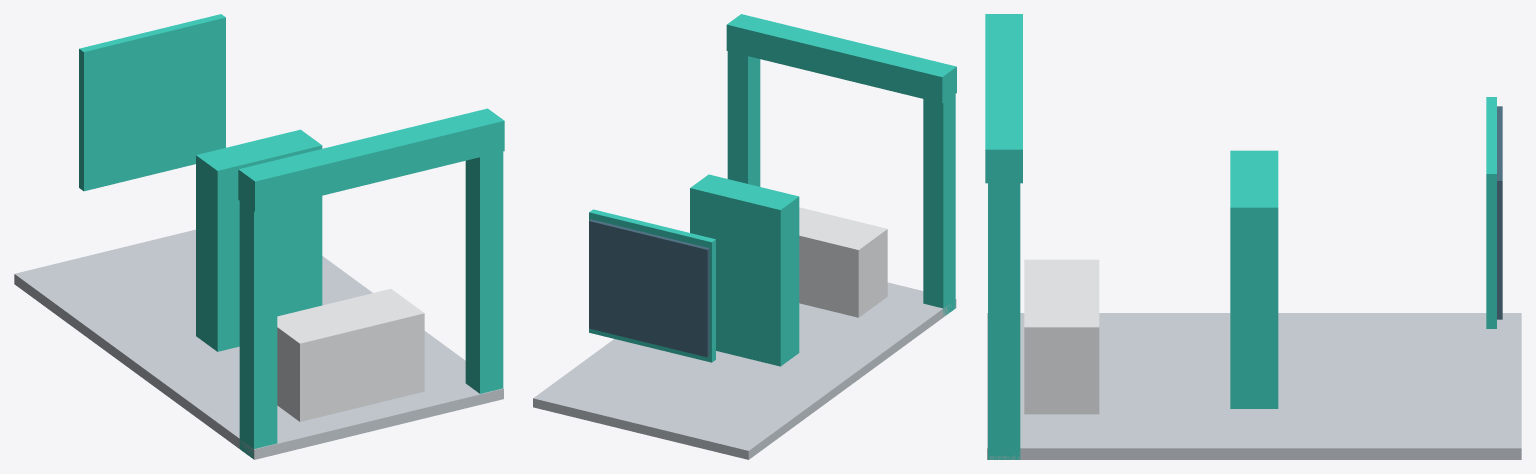
3 views of the same model, side by side, from view 1: azimuth 30°, elevation 25°; view 2: azimuth 150°, elevation 25°; view 3: azimuth 270°, elevation 25° (orthographic). The views are drawn at different scales.
Parts seen in each view (by area): view 1: Exhibition Booth Concept; view 2: Exhibition Booth Concept; view 3: Exhibition Booth Concept.
Part boxes in pixels (x1,y1,x2,y2): Exhibition Booth Concept: [14, 14, 504, 459]; Exhibition Booth Concept: [533, 14, 956, 459]; Exhibition Booth Concept: [985, 14, 1521, 459].
Size of the model in its own units: 3 by 3.2 by 5.02.
